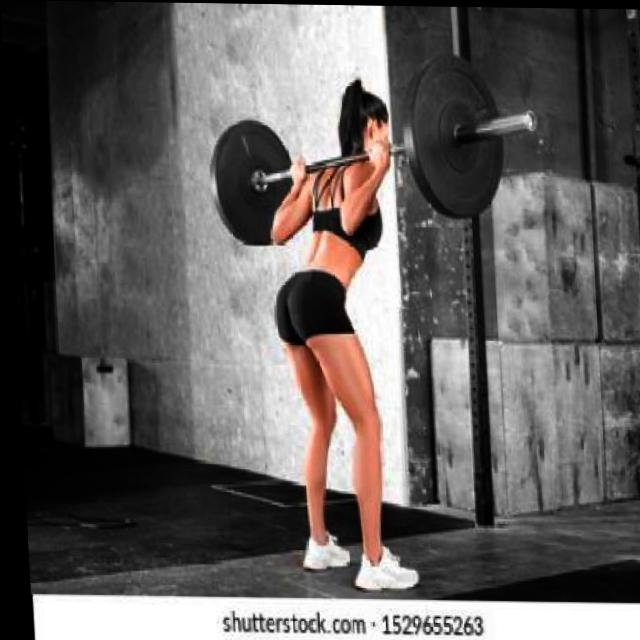barbell: (401, 50, 542, 226)
